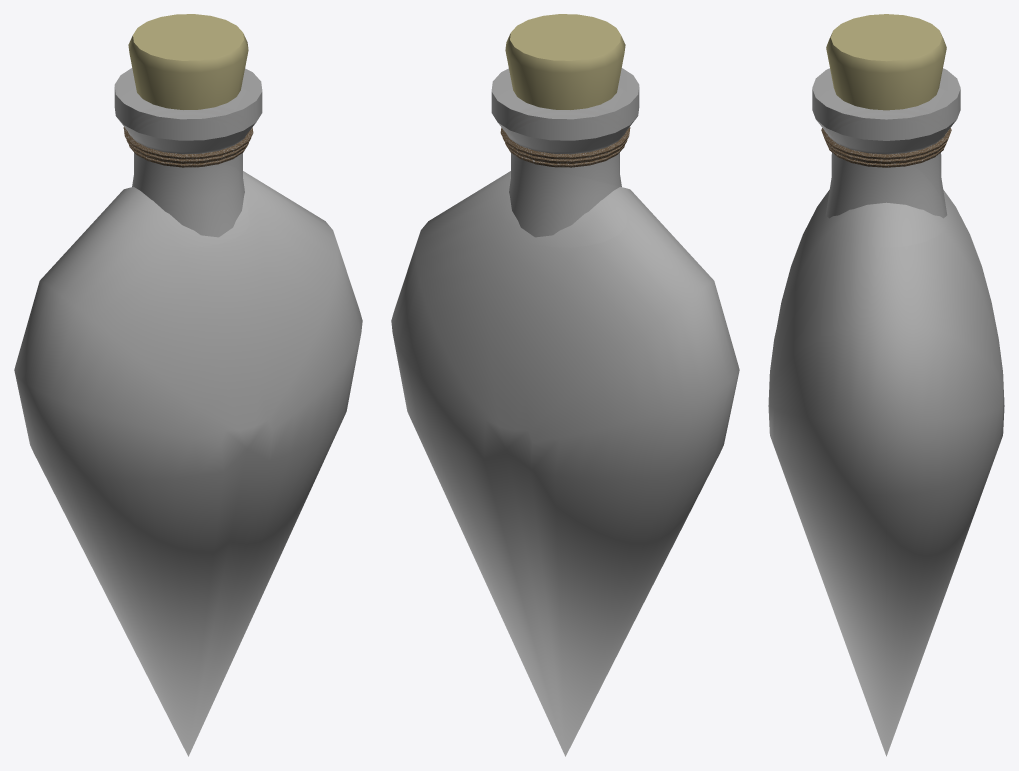
File: Enchanted HartsHorn.fbx
3 renders of one model, left to right at view 1: azimuth 30°, elevation 25°; view 2: azimuth 150°, elevation 25°; view 3: azimuth 270°, elevation 25°, orthographic.
Visible parts, largest first — view 1: Enchanted_Hartshorn1; view 2: Enchanted_Hartshorn1; view 3: Enchanted_Hartshorn1.
Boxes of the visible parts, x1=… form: Enchanted_Hartshorn1: x1=14, y1=14, x2=362, y2=756; Enchanted_Hartshorn1: x1=391, y1=14, x2=739, y2=756; Enchanted_Hartshorn1: x1=768, y1=14, x2=1004, y2=756.
Size of the model in its own units: 0.8827 by 1.85 by 0.5503.
